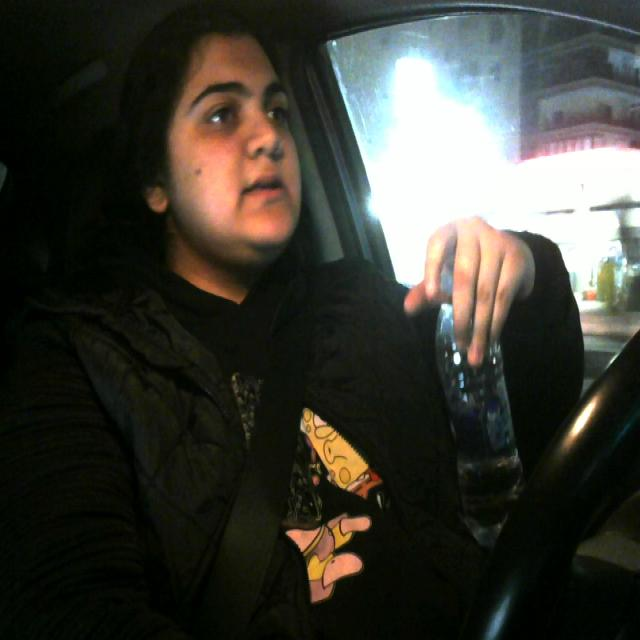drinking: (433, 276, 550, 576)
